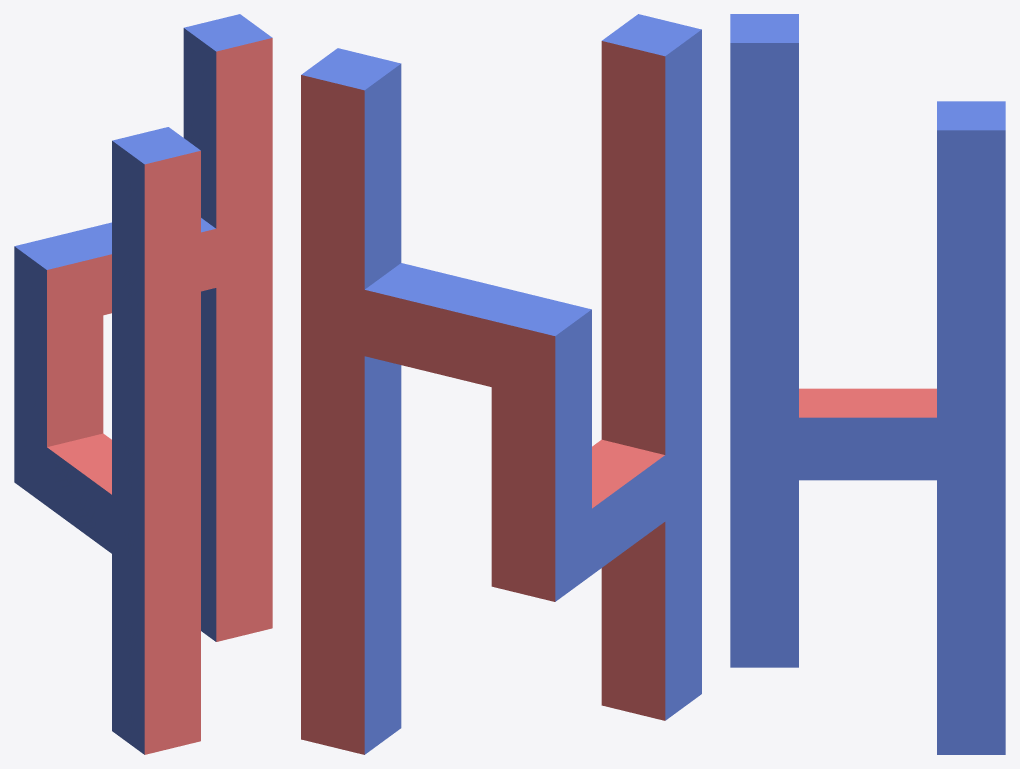
Rendered from logical_cnot.dae.
The picture shows the model from 3 angles, left to right: view 1: azimuth 30°, elevation 25°; view 2: azimuth 150°, elevation 25°; view 3: azimuth 270°, elevation 25°; orthographic projection. The views are drawn at different scales.
Parts seen in each view (by area): view 1: zxo (×14), zxz (×18), zxx (×3), zox (×2), oxz (×2); view 2: zxo (×14), zxz (×18), oxz (×2), zxx (×3), zox (×2); view 3: zxo (×6), zxz (×9), zox (×2), zxx.
Boxes of the visible parts, left/top/right/bottom form: zxo (×14): left=14, top=87, right=272, bottom=695; zxz (×18): left=14, top=14, right=272, bottom=754; zxx (×3): left=14, top=423, right=200, bottom=577; zox (×2): left=47, top=433, right=111, bottom=553; oxz (×2): left=71, top=218, right=216, bottom=315; zxo (×14): left=301, top=96, right=701, bottom=688; zxz (×18): left=301, top=14, right=701, bottom=754; oxz (×2): left=364, top=263, right=527, bottom=386; zxx (×3): left=491, top=428, right=701, bottom=601; zox (×2): left=592, top=439, right=665, bottom=574; zxo (×6): left=730, top=105, right=1005, bottom=692; zxz (×9): left=730, top=14, right=1005, bottom=754; zox (×2): left=799, top=388, right=936, bottom=480; zxx: left=730, top=417, right=798, bottom=480.
Size of the model in its own units: 4 by 4 by 10.
